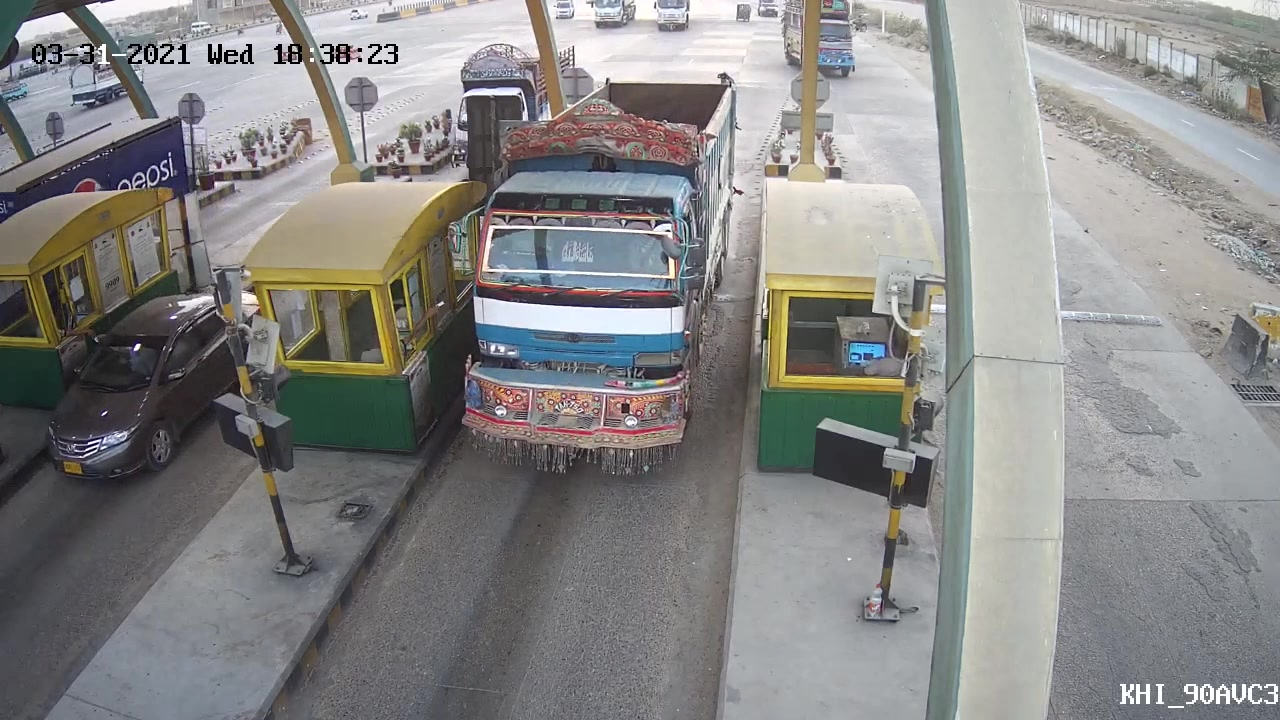F5: (452, 70, 744, 476)
